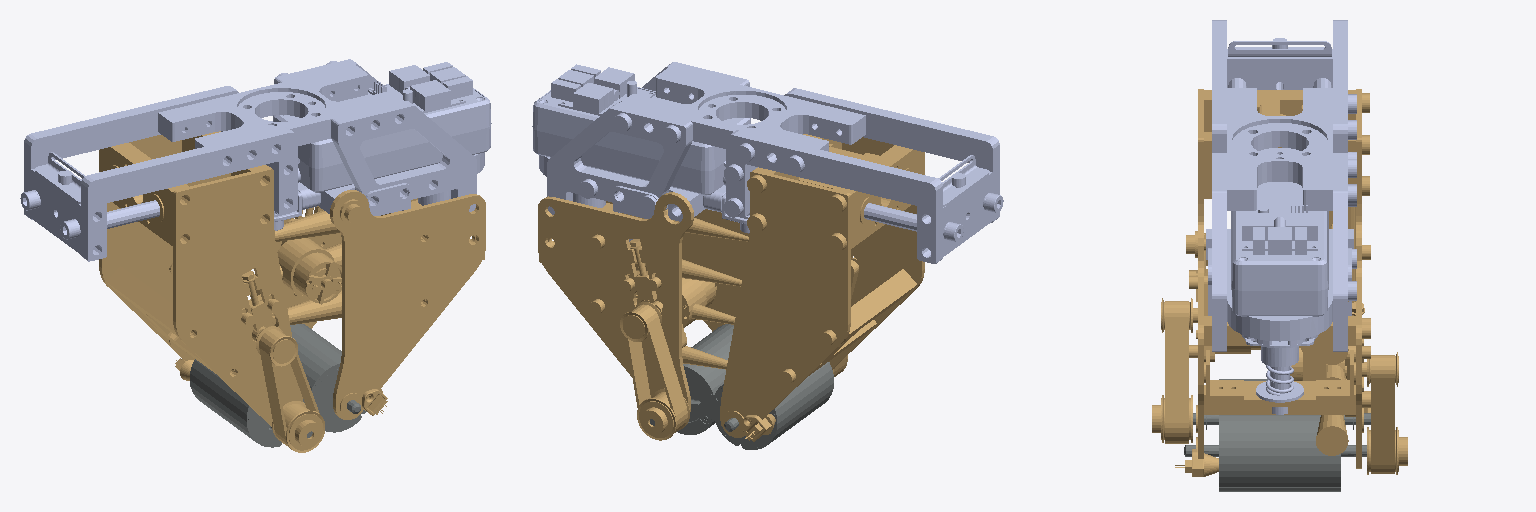
URDF robot description (gripper_description):
<?xml version="1.0" encoding="utf-8"?>
<!-- This URDF was automatically created by SolidWorks to URDF Exporter! Originally created by [author] ([email redacted]) 
     Commit Version: 1.5.1-0-g916b5db  Build Version: 1.5.7152.31018
     For more information, please see http://wiki.ros.org/sw_urdf_exporter -->
<robot
  name="gripper_description">

  <link name="world">
  </link>

  <joint name="base_link_world" type="fixed">
    <origin
      xyz="0 0 0"
      rpy="1.5708 0 0" />
    <parent
      link="world" />
    <child
      link="gripper_base_link" />    
  </joint>


  <link name="gripper_base_link">
    <inertial>
      <origin
        xyz="-1.2189E-07 -1.2713 2.1759E-06"
        rpy="0 0 0" />
      <mass
        value="0.20104" />
      <inertia
        ixx="0.00012096"
        ixy="-3.4543E-10"
        ixz="7.792E-11"
        iyy="0.00021064"
        iyz="2.2037E-09"
        izz="0.00012095" />
    </inertial>
    <visual>
      <origin
        xyz="0 0 0"
        rpy="0 0 0" />
      <geometry>
        <mesh
          filename="package://gripper_description/meshes/base_link.STL" />
      </geometry>
      <material
        name="">
        <color
          rgba="0.79216 0.81961 0.93333 1" />
      </material>
    </visual>
    <collision>
      <origin
        xyz="0 0 0"
        rpy="0 0 0" />
      <geometry>
        <mesh
          filename="package://gripper_description/meshes/base_link.STL" />
      </geometry>
    </collision>
  </link>


  <link name="01_child">
    <inertial>
      <origin
        xyz="0.0094532 -1.3236 -0.0033489"
        rpy="0 0 0" />
      <mass
        value="1.3212" />
      <inertia
        ixx="0.00053176"
        ixy="3.7506E-05"
        ixz="1.1258E-09"
        iyy="0.0024257"
        iyz="4.0938E-08"
        izz="0.0021746" />
    </inertial>
    <visual>
      <origin
        xyz="0 0 0"
        rpy="0 0 0" />
      <geometry>
        <mesh
          filename="package://gripper_description/meshes/01_child.STL" />
      </geometry>
      <material
        name="">
        <color
          rgba="0.79216 0.81961 0.93333 1" />
      </material>
    </visual>
    <collision>
      <origin
        xyz="0 0 0"
        rpy="0 0 0" />
      <geometry>
        <mesh
          filename="package://gripper_description/meshes/01_child.STL" />
      </geometry>
    </collision>
  </link>


  <joint name="f_01child" type="fixed">
    <origin
      xyz="0 0 0"
      rpy="0 0 0" />
    <parent
      link="gripper_base_link" />
    <child
      link="01_child" />
    <axis
      xyz="0 0 0" />
  </joint>


  <link name="jaw1">
    <inertial>
      <origin
        xyz="-0.0085346 0.047394 0.082598"
        rpy="0 0 0" />
      <mass
        value="0.40493" />
      <inertia
        ixx="0.00035017"
        ixy="2.2144E-07"
        ixz="1.5411E-08"
        iyy="0.00038396"
        iyz="-3.3172E-05"
        izz="0.00025634" />
    </inertial>
    <visual>
      <origin
        xyz="0 0 0"
        rpy="0 0 0" />
      <geometry>
        <mesh
          filename="package://gripper_description/meshes/jaw1.STL" />
      </geometry>
      <material
        name="">
        <color
          rgba="0.82745 0.69804 0.4902 1" />
      </material>
    </visual>
    <collision>
      <origin
        xyz="0 0 0"
        rpy="0 0 0" />
      <geometry>
        <mesh
          filename="package://gripper_description/meshes/jaw1.STL" />
      </geometry>
    </collision>
  </link>
 
 
  <joint name="fixed_jaw1" type="fixed">
    <origin
      xyz="0.025 -1.503 0"
      rpy="1.5708 -1.5708 3.14159" />
    <parent
      link="01_child" />
    <child
      link="jaw1" />
    <axis
      xyz="0 0 0" />
    <limit
      lower="-0.0872665"
      upper="0.0872665"
      effort="50"
      velocity="100" />
  </joint>


  <link name="rod1">
    <inertial>
      <origin
        xyz="-0.00016212 0.079673 -0.00023128"
        rpy="0 0 0" />
      <mass
        value="0.23263" />
      <inertia
        ixx="0.00021456"
        ixy="-1.3392E-11"
        ixz="4.1162E-06"
        iyy="5.3561E-05"
        iyz="7.8804E-12"
        izz="0.00022185" />
    </inertial>
    <visual>
      <origin
        xyz="0 0 0"
        rpy="0 0 0" />
      <geometry>
        <mesh
          filename="package://gripper_description/meshes/rod1.STL" />
      </geometry>
      <material
        name="">
        <color
          rgba="0.52941 0.54902 0.54902 1" />
      </material>
    </visual>
    <collision>
      <origin
        xyz="0 0 0"
        rpy="0 0 0" />
      <geometry>
        <mesh
          filename="package://gripper_description/meshes/rod1.STL" />
      </geometry>
    </collision>
  </link>
  
  
  <joint name="c_rod1" type="continuous">
    <origin
      xyz="-0.081888 0 0"
      rpy="3.1416 0.58586 1.5708" />
    <parent
      link="jaw1" />
    <child
      link="rod1" />
    <axis
      xyz="0 1 0" />
    <limit
      effort="50"
      velocity="100" />
  </joint>
  
  
  <link name="rod2">
    <inertial>
      <origin
        xyz="-0.098 -1.328 8.1314E-17"
        rpy="0 0 0" />
      <mass
        value="0.033326" />
      <inertia
        ixx="6.3581E-07"
        ixy="3.8774E-23"
        ixz="1.6156E-23"
        iyy="6.3516E-05"
        iyz="-2.6552E-25"
        izz="6.3516E-05" />
    </inertial>
    <visual>
      <origin
        xyz="0 0 0"
        rpy="0 0 0" />
      <geometry>
        <mesh
          filename="package://gripper_description/meshes/rod2.STL" />
      </geometry>
      <material
        name="">
        <color
          rgba="0.79216 0.81961 0.93333 1" />
      </material>
    </visual>
    <collision>
      <origin
        xyz="0 0 0"
        rpy="0 0 0" />
      <geometry>
        <mesh
          filename="package://gripper_description/meshes/rod2.STL" />
      </geometry>
    </collision>
  </link>
  
  
  <joint name="f_rod2" type="fixed">
    <origin
      xyz="0 0 0"
      rpy="0 0 0" />
    <parent
      link="01_child" />
    <child
      link="rod2" />
    <axis
      xyz="0 0 0" />
  </joint>
  
  
  <link name="jaw2">
    <inertial>
      <origin
        xyz="-0.063785 -1.38 -0.002598"
        rpy="0 0 0" />
      <mass
        value="0.81068" />
      <inertia
        ixx="0.0007992"
        ixy="0.00010843"
        ixz="-1.2528E-07"
        iyy="0.00051604"
        iyz="-2.7791E-07"
        izz="0.00060318" />
    </inertial>
    <visual>
      <origin
        xyz="0 0 0"
        rpy="0 0 0" />
      <geometry>
        <mesh
          filename="package://gripper_description/meshes/jaw2.STL" />
      </geometry>
      <material
        name="">
        <color
          rgba="0.82745 0.69804 0.4902 1" />
      </material>
    </visual>
    <collision>
      <origin
        xyz="0 0 0"
        rpy="0 0 0" />
      <geometry>
        <mesh
          filename="package://gripper_description/meshes/jaw2.STL" />
      </geometry>
    </collision>
  </link>
  
  
  <joint name="p_jaw2" type="prismatic">
    <origin
      xyz="0 0 0"
      rpy="0 0 0" />
    <parent
      link="rod2" />
    <child
      link="jaw2" />
    <axis
      xyz="-1 0 0" />
    <limit
      lower="0"
      upper="0.05"
      effort="50"
      velocity="100" />
  </joint>
  
  
  <link name="rod3">
    <inertial>
      <origin
        xyz="-0.000287482481318269 0.0796731129142511 2.27008169670917E-05"
        rpy="0 0 0" />
      <mass
        value="0.232866245737791" />
      <inertia
        ixx="0.000223656460602869"
        ixy="-4.85120700596206E-13"
        ixz="7.44206671716712E-07"
        iyy="5.35773404241321E-05"
        iyz="1.44557114747249E-11"
        izz="0.000212754182688039" />
    </inertial>
    <visual>
      <origin
        xyz="0 0 0"
        rpy="0 0 0" />
      <geometry>
        <mesh
          filename="package://gripper_description/meshes/rod3.STL" />
      </geometry>
      <material
        name="">
        <color
          rgba="0.529411764705882 0.549019607843137 0.549019607843137 1" />
      </material>
    </visual>
    <collision>
      <origin
        xyz="0 0 0"
        rpy="0 0 0" />
      <geometry>
        <mesh
          filename="package://gripper_description/meshes/rod3.STL" />
      </geometry>
    </collision>
  </link>
  
  
  <joint name="c_rod3" type="continuous">
    <origin
      xyz="-0.025 -1.503 0.081888"
      rpy="-1.5708 0 -0.55284" />
    <parent
      link="jaw2" />
    <child
      link="rod3" />
    <axis
      xyz="0 1 0" />
    <limit
      effort="50"
      velocity="100" />
  </joint>

  <transmission name="trans_c_rod1">
      <type>transmission_interface/SimpleTransmission</type>
      <joint name="c_rod1">
          <hardwareInterface>PositionJointInterface</hardwareInterface>
      </joint>
      <actuator name="c_rod1_motor">
          <hardwareInterface>PositionJointInterface</hardwareInterface>
          <mechanicalReduction>1</mechanicalReduction>
      </actuator>
  </transmission>
  
  <transmission name="trans_p_jaw2">
      <type>transmission_interface/SimpleTransmission</type>
      <joint name="p_jaw2">
          <hardwareInterface>PositionJointInterface</hardwareInterface>
      </joint>
      <actuator name="p_jaw2_motor">
          <hardwareInterface>PositionJointInterface</hardwareInterface>
          <mechanicalReduction>1</mechanicalReduction>
      </actuator>
  </transmission>
  
  <transmission name="trans_c_rod3">
      <type>transmission_interface/SimpleTransmission</type>
      <joint name="c_rod3">
          <hardwareInterface>PositionJointInterface</hardwareInterface>
      </joint>
      <actuator name="c_rod3_motor">
          <hardwareInterface>PositionJointInterface</hardwareInterface>
          <mechanicalReduction>1</mechanicalReduction>
      </actuator>
  </transmission>

  <gazebo>
    <plugin name="control" filename="libgazebo_ros_control.so"/>
  </gazebo>


  <gazebo>
    <plugin name="joint_state_publisher" filename="libgazebo_ros_joint_state_publisher.so">
      <jointName>c_rod1, p_jaw2, c_rod3</jointName>
    </plugin>
  </gazebo>

  
</robot>

--- Facts derived from the render (not from the file) ---
3 views of the same robot in one strip: view 1: azimuth 30°, elevation 25°; view 2: azimuth 150°, elevation 25°; view 3: azimuth 270°, elevation 25° (orthographic).
Model gripper_description with 8 links and 7 joints (2 continuous, 1 prismatic, 4 fixed), rooted at world, posed all joints at 0.
Links seen in each view (by area): view 1: 01_child, jaw2, jaw1, rod1, rod3, rod2; view 2: 01_child, jaw2, jaw1, rod3, rod1, rod2; view 3: 01_child, jaw1, jaw2, rod1.
Boxes of the visible links, <box> form: 01_child: <box>20,59,491,261</box>; jaw2: <box>99,131,341,452</box>; jaw1: <box>255,190,485,419</box>; rod1: <box>290,324,366,432</box>; rod3: <box>190,359,312,447</box>; rod2: <box>81,179,159,228</box>; 01_child: <box>532,62,1003,263</box>; jaw2: <box>622,134,924,441</box>; jaw1: <box>538,192,748,440</box>; rod3: <box>714,362,833,449</box>; rod1: <box>650,324,733,434</box>; rod2: <box>864,182,942,231</box>; 01_child: <box>1206,20,1356,414</box>; jaw1: <box>1175,222,1407,476</box>; jaw2: <box>1152,89,1370,455</box>; rod1: <box>1184,415,1366,491</box>.
Bounding box of the posed robot: 0.3521 × 0.168 × 0.2441 m (x, y, z).
Meshes: 7 distinct files referenced, 6 mesh visuals loaded (6 binary STL); not drawn: 1 (reference not matched to a file when rendering).